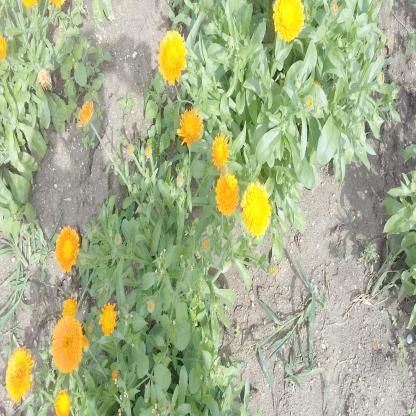marigold: (51, 316, 83, 374), (240, 181, 272, 238), (4, 346, 34, 404), (157, 29, 188, 85), (272, 0, 306, 44), (54, 225, 80, 273), (176, 108, 204, 148), (216, 171, 240, 216), (211, 132, 230, 170), (99, 301, 118, 336), (77, 100, 94, 127), (61, 295, 77, 320), (308, 78, 323, 104)
